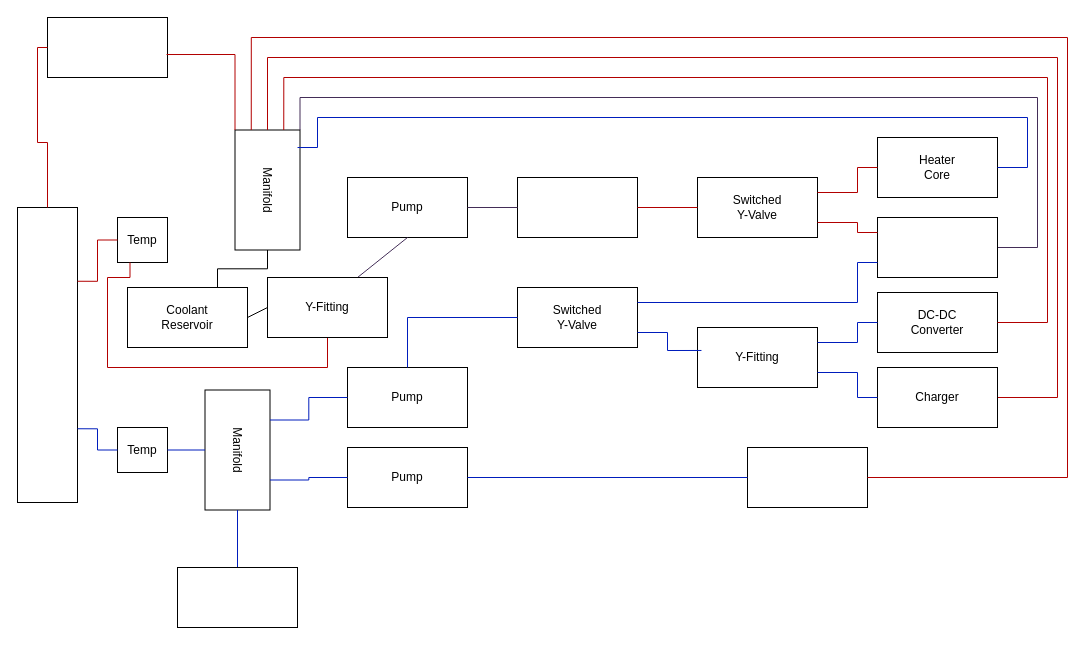
The diagram is 1086 pixels wide and 645 high, and some of its shapes have lost their labels. Here are the shapes that lost their labels. From the top down, the box of each, then its label:
(46, 16, 168, 78): Overflow
(516, 176, 638, 238): Coolant Heater
(876, 216, 998, 278): Batteries
(16, 206, 78, 502): Radiator
(746, 446, 868, 508): Motor and Inverter
(176, 566, 298, 628): Drain
